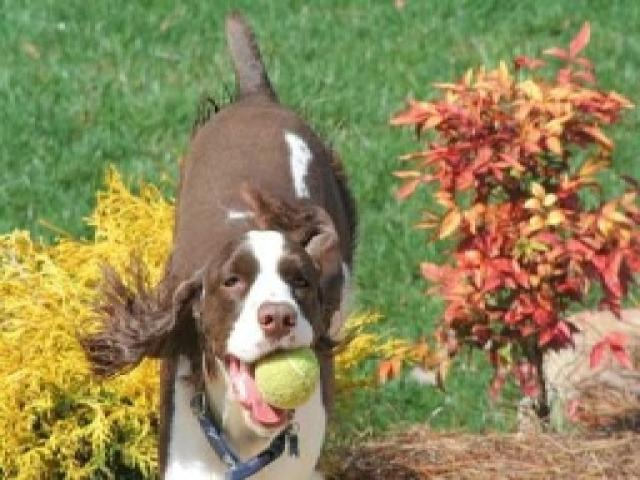tennis-ball: (255, 347, 319, 409)
